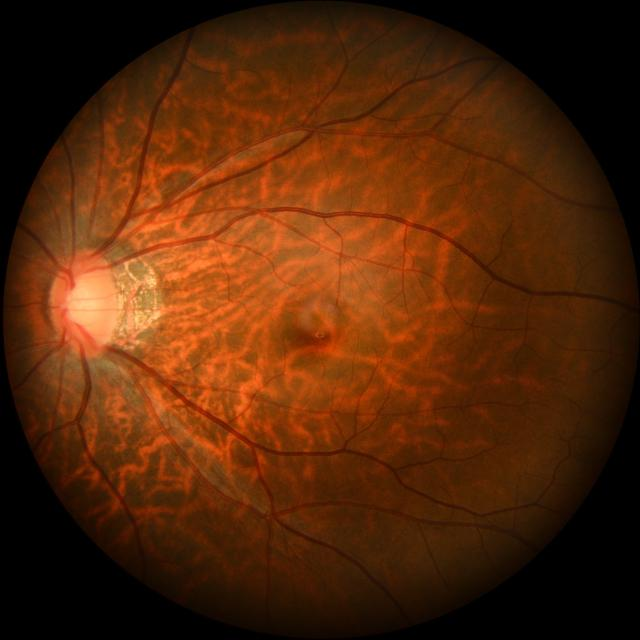OC: (65, 272, 107, 340)
OD: (48, 248, 119, 355)
